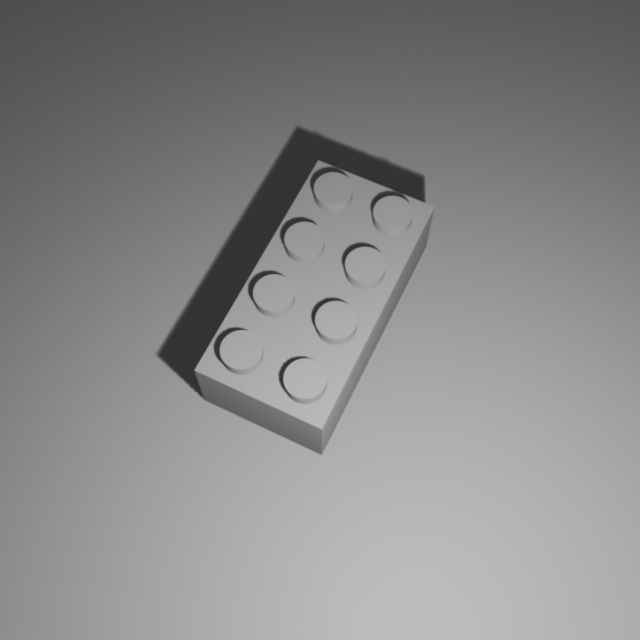lego_2x4: (193, 153, 436, 455)
